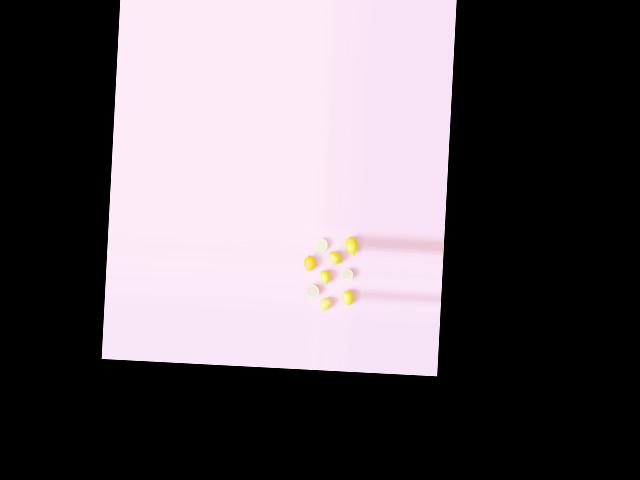lemon: (343, 286, 357, 306)
